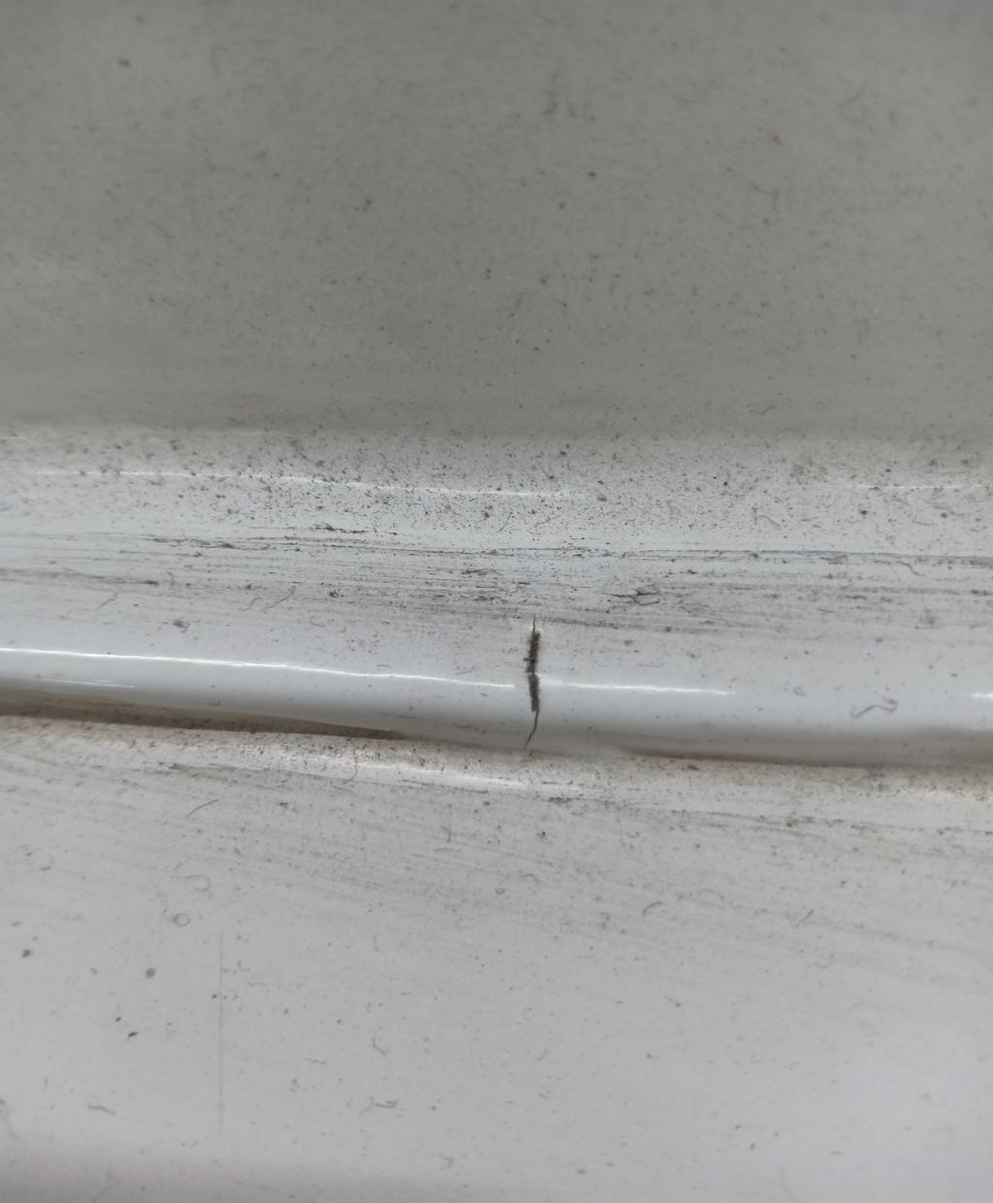crack: (509, 613, 556, 759)
